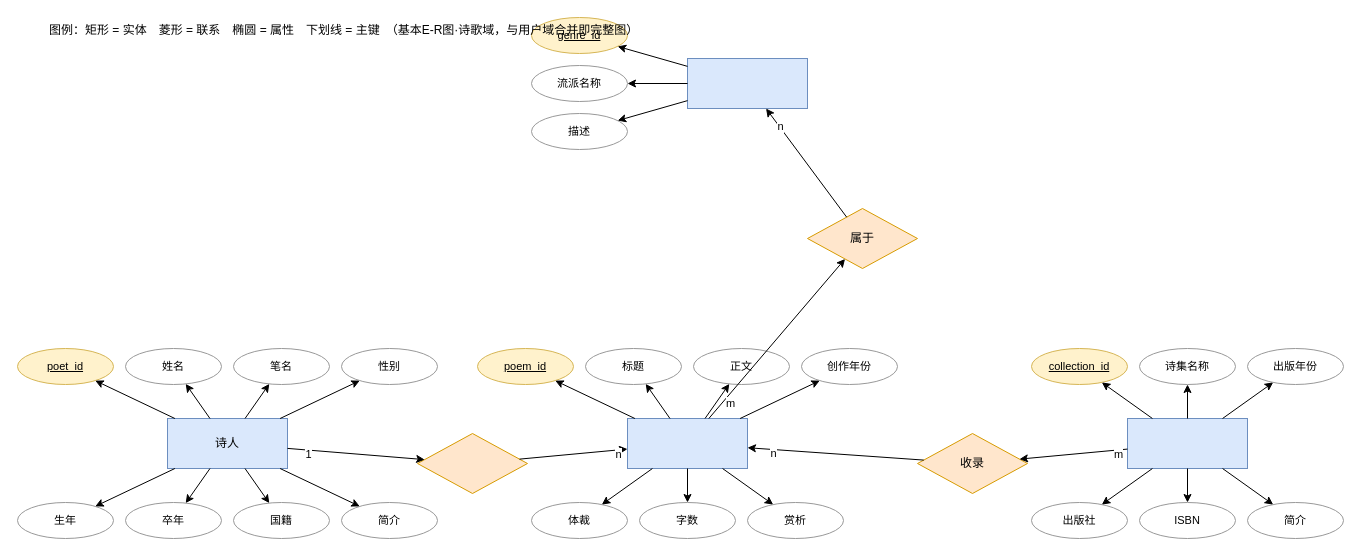
This 1361x556 diagram has some shape labels left out. The centre of each missing label's shape, as x and y in pixels:
"创作" goes at point (472, 463).
"流派" goes at point (747, 83).
"诗歌" goes at point (687, 443).
"诗集" goes at point (1187, 443).
